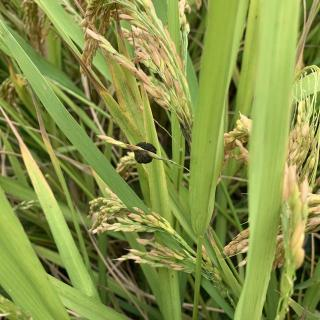Gosong-Palsu: (133, 140, 158, 166)
